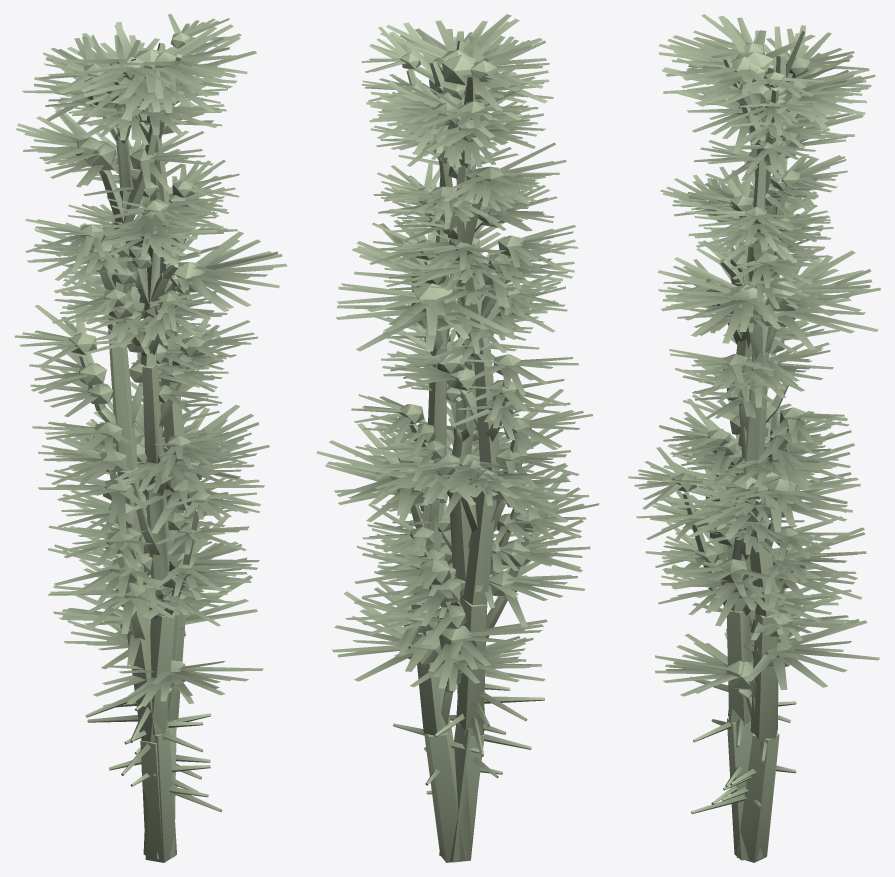
The model's file is tree_pine_jack.glb.
3 renders of one model, left to right at view 1: azimuth 30°, elevation 25°; view 2: azimuth 150°, elevation 25°; view 3: azimuth 270°, elevation 25°, orthographic.
Visible parts, largest first — view 1: tier1_foliage, tier2_foliage, tier0_foliage, tier1_bark, tier2_bark, tier0_bark; view 2: tier1_foliage, tier2_foliage, tier0_foliage, tier1_bark, tier0_bark, tier2_bark; view 3: tier2_foliage, tier0_foliage, tier1_foliage, tier0_bark, tier2_bark, tier1_bark.
Boxes of the visible parts, bbox=[...] form: tier1_foliage: bbox=[14, 22, 259, 634]; tier2_foliage: bbox=[38, 14, 259, 626]; tier0_foliage: bbox=[52, 24, 287, 706]; tier1_bark: bbox=[79, 57, 177, 862]; tier2_bark: bbox=[87, 54, 210, 847]; tier0_bark: bbox=[135, 43, 222, 858]; tier1_foliage: bbox=[354, 14, 599, 645]; tier2_foliage: bbox=[351, 26, 589, 617]; tier0_foliage: bbox=[316, 21, 549, 690]; tier1_bark: bbox=[426, 82, 544, 862]; tier0_bark: bbox=[393, 60, 483, 862]; tier2_bark: bbox=[406, 40, 518, 841]; tier2_foliage: bbox=[628, 72, 851, 623]; tier0_foliage: bbox=[655, 15, 880, 696]; tier1_foliage: bbox=[645, 14, 875, 641]; tier0_bark: bbox=[691, 64, 796, 862]; tier2_bark: bbox=[682, 57, 796, 804]; tier1_bark: bbox=[690, 53, 790, 860].
Size of the model in its own units: 0.3046 by 1 by 0.2828.
